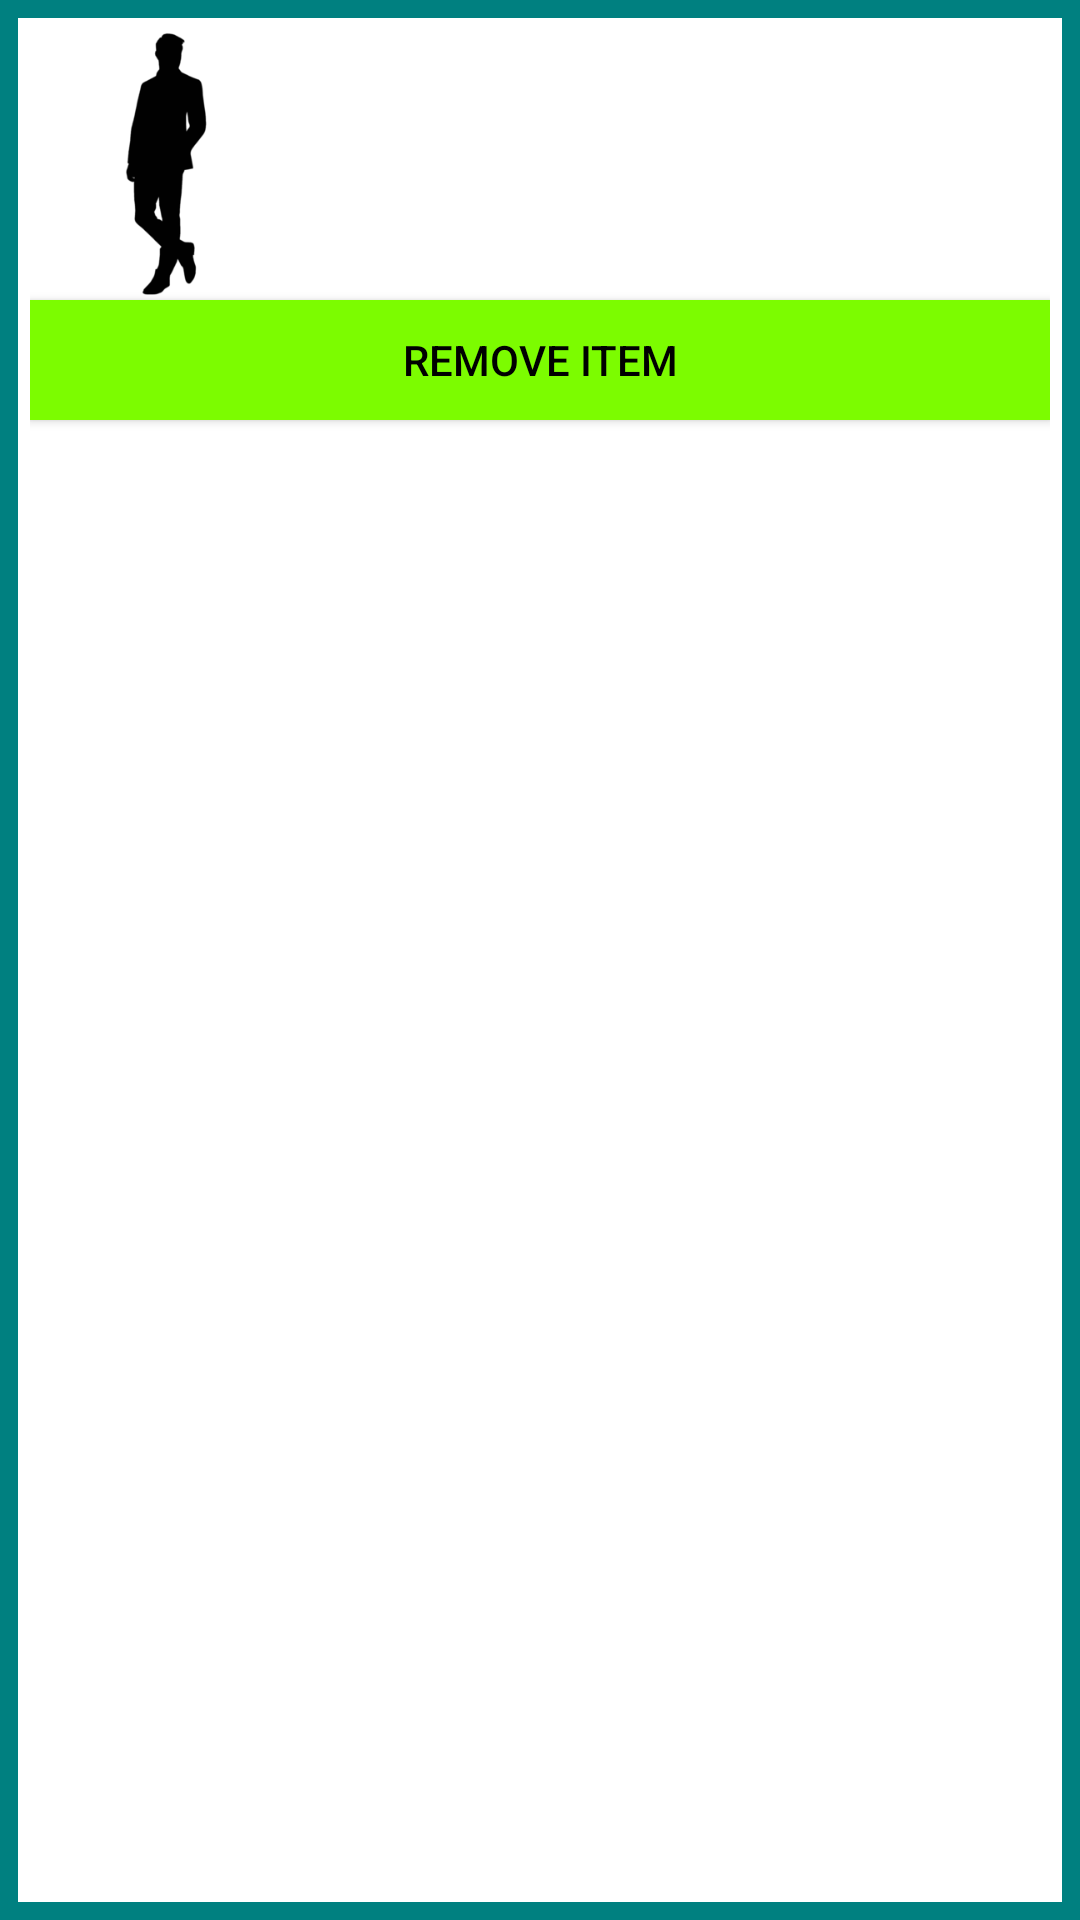

Screen size 1080*1920. Icon name, then its center in pixels as [x,y]:
mensicons: [166,164]
